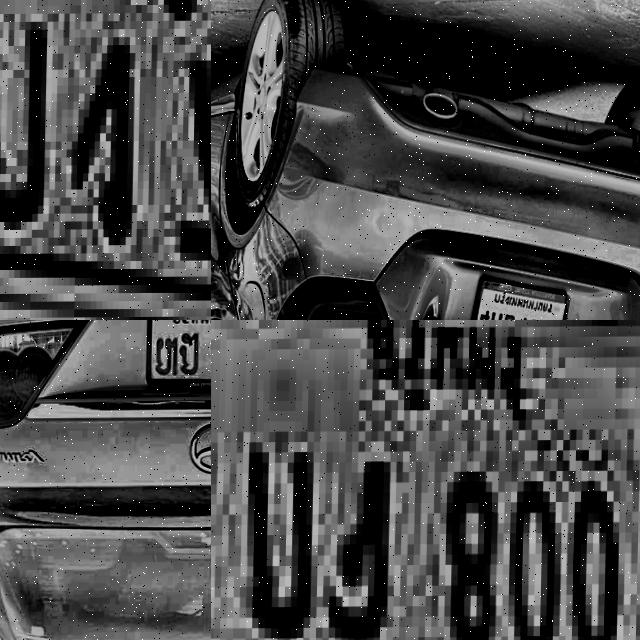license-plate: (211, 320, 640, 640), (0, 0, 211, 320), (467, 273, 576, 320), (145, 320, 211, 388)
